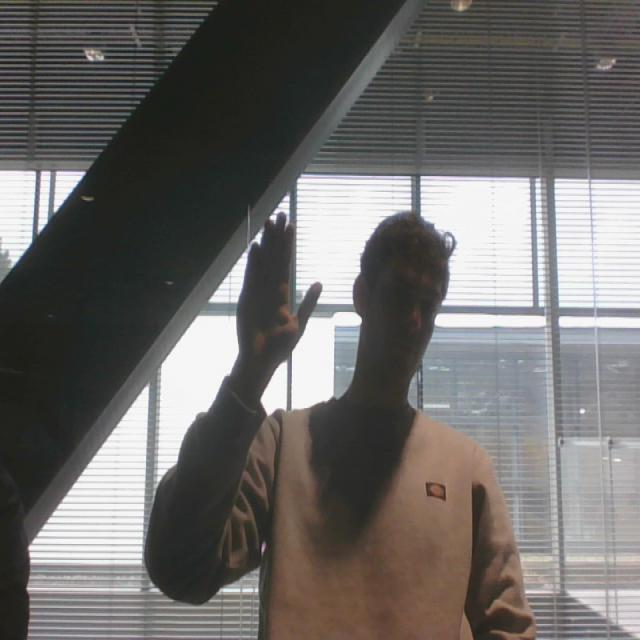backward: (232, 204, 326, 370)
